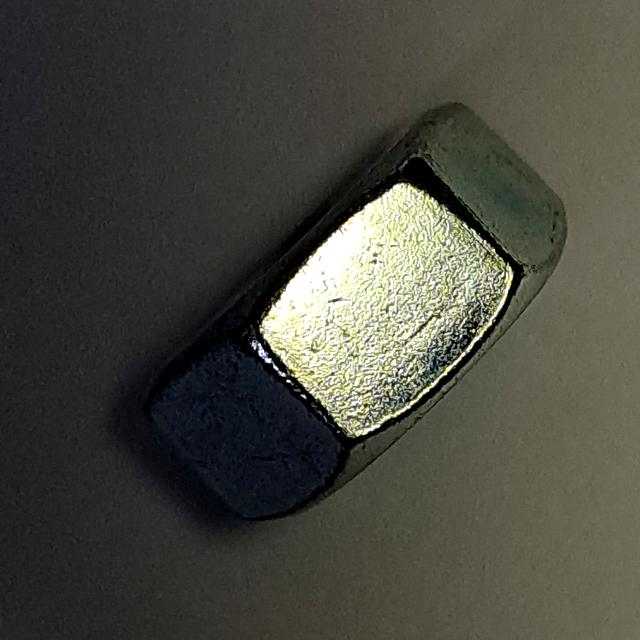Side_Excellent: (124, 94, 592, 533)
